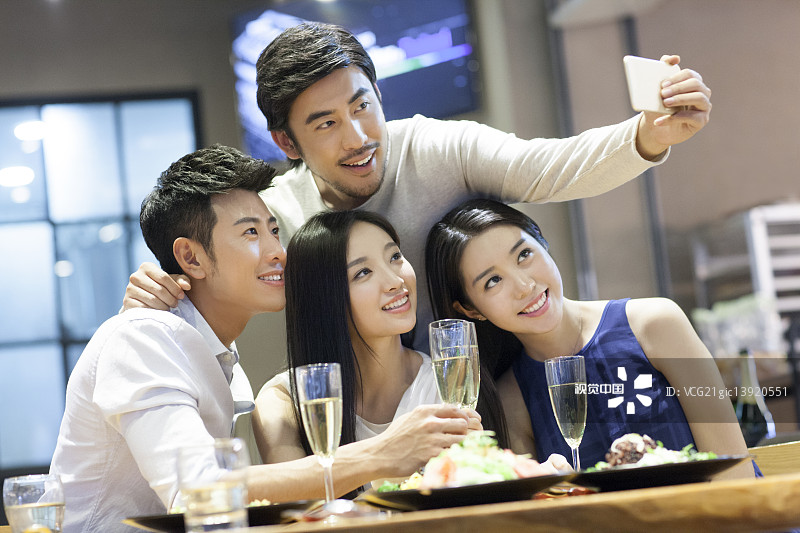no-phone: (355, 376, 497, 491)
taking photos: (609, 39, 725, 172)
